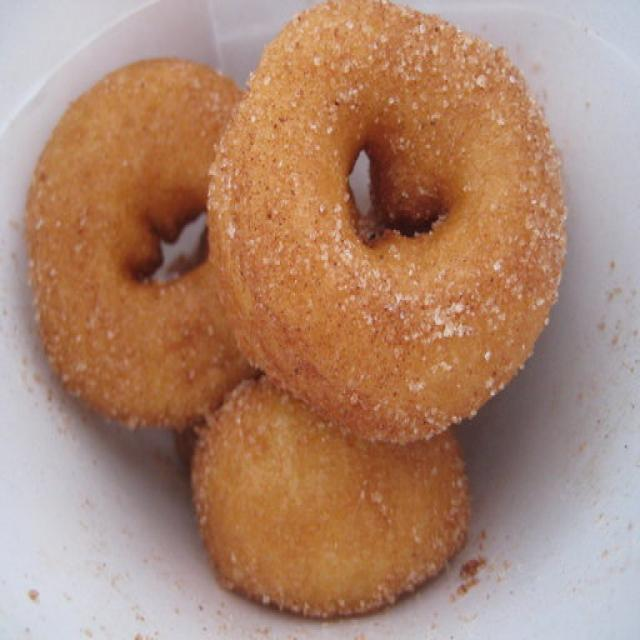Donuts: (25, 5, 575, 610)
